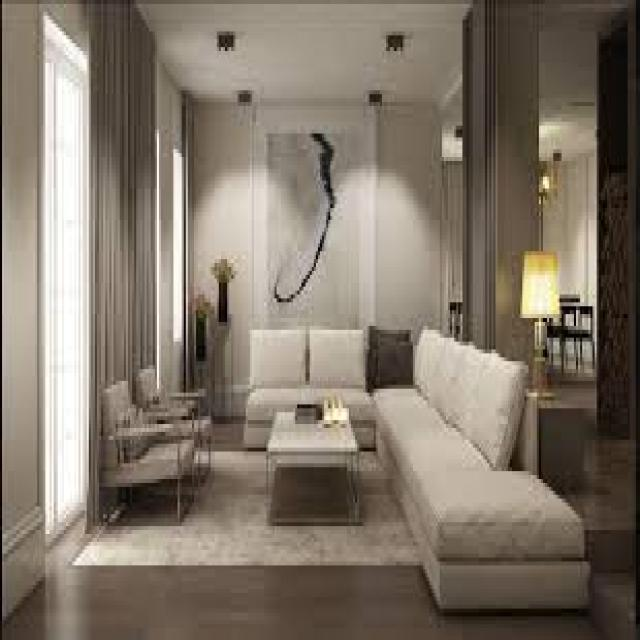Chair: (102, 358, 211, 522)
Lamp: (518, 244, 560, 384)
Sofa: (251, 311, 587, 601)
Table: (269, 404, 359, 514)
